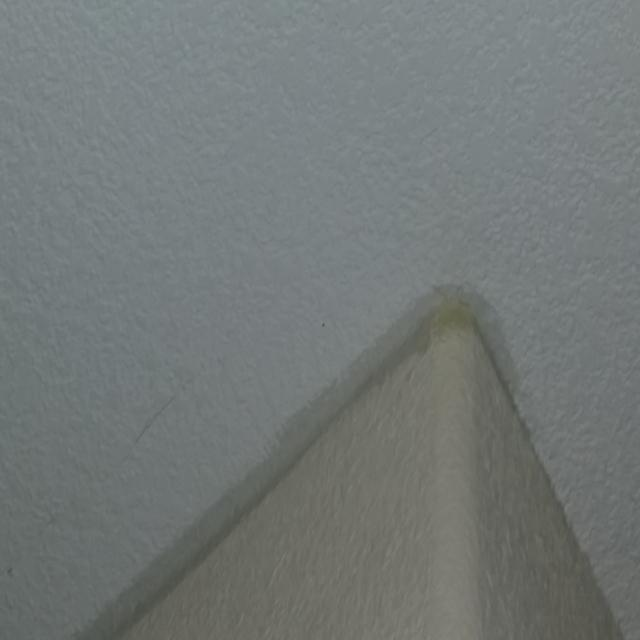leak: (140, 369, 206, 445)
